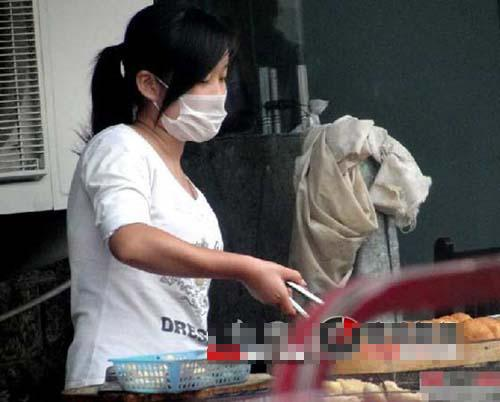OK: (139, 50, 235, 146)
